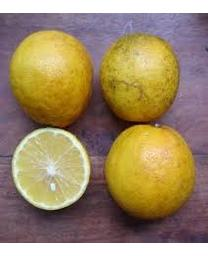lemon: (105, 126, 196, 222), (12, 30, 93, 123), (9, 126, 93, 212), (104, 33, 178, 123)
